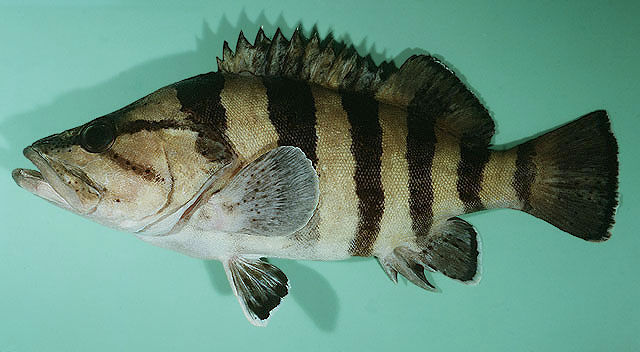fish: (13, 27, 622, 327)
